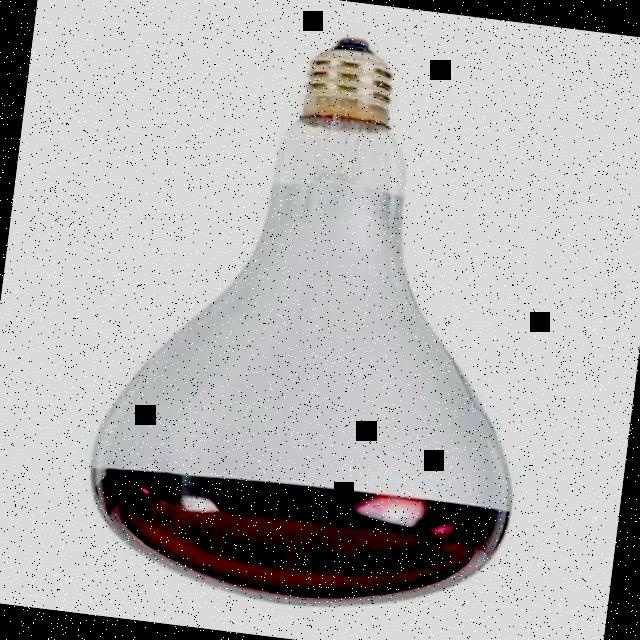light_bulb: (69, 19, 568, 628)
